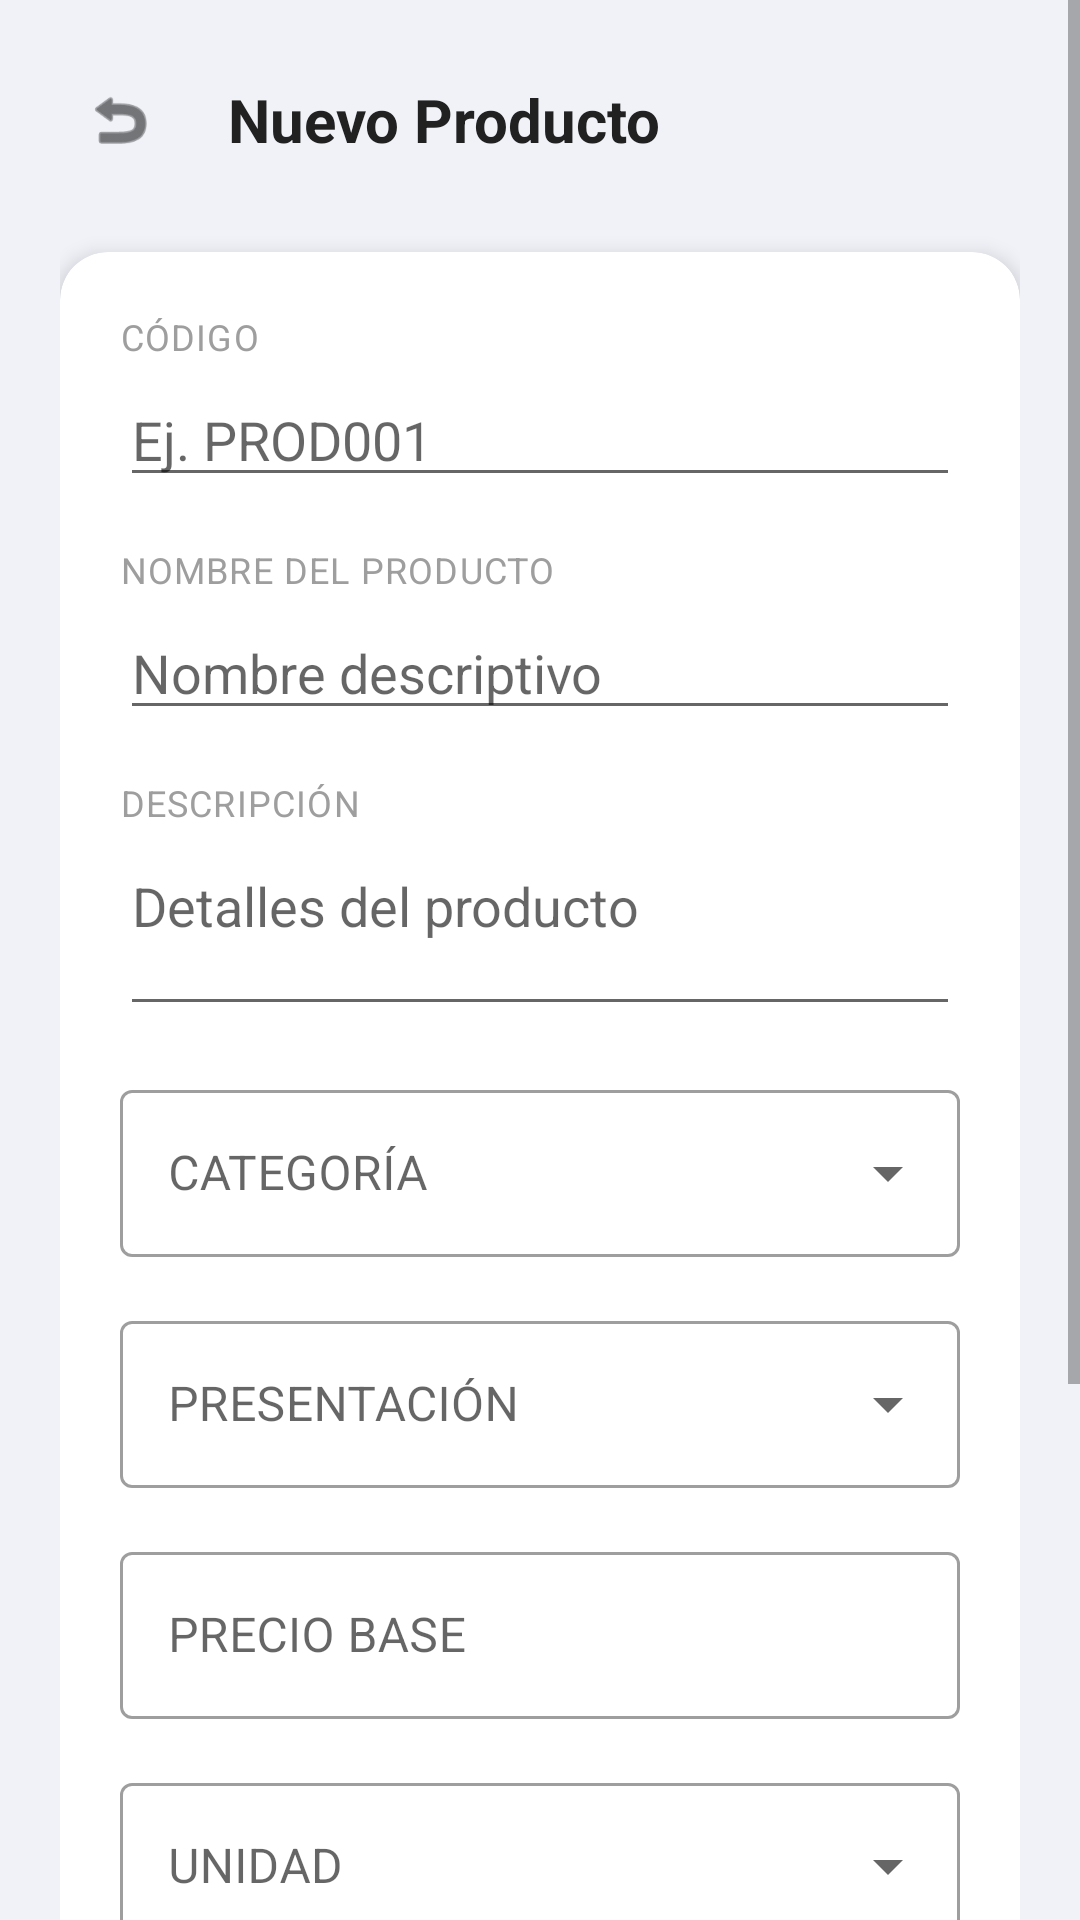

Where to tap for icons on this 1080px×1920px app screen, as (x,y):
revert: (121,120)
